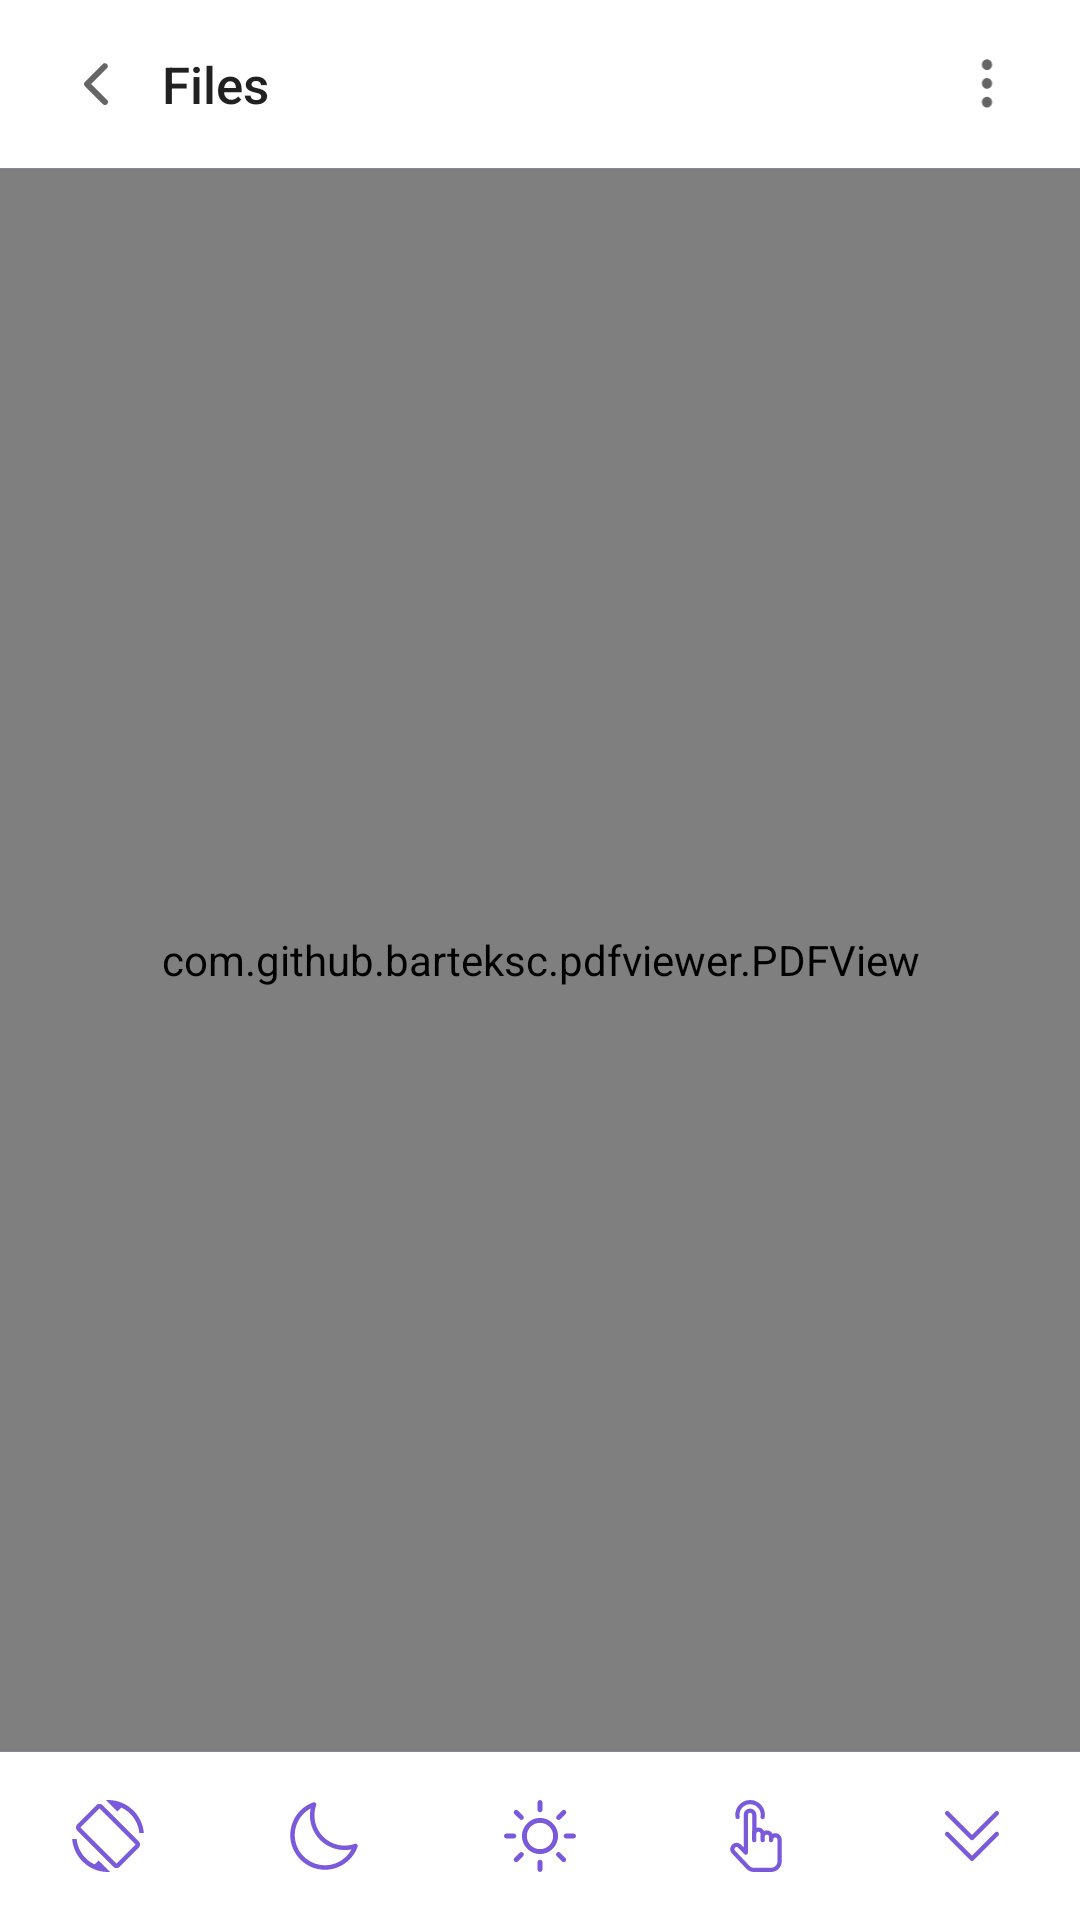

Point at icon controls on the screen. Image size 1080w x 1920h, points as (x,y).
arrow back: (96,84)
Brightness: (540,1836)
Dark Mode: (324,1836)
Option Menu: (987,83)
Rotate: (108,1836)
Scroll Orientation: (972,1836)
